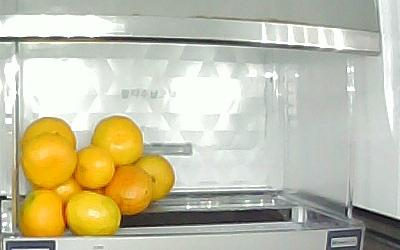tangerine: (21, 132, 79, 189), (91, 115, 144, 166), (64, 190, 121, 237), (103, 166, 154, 216), (19, 189, 64, 238), (133, 154, 175, 202), (21, 117, 77, 151), (74, 147, 115, 189), (54, 177, 104, 203)
